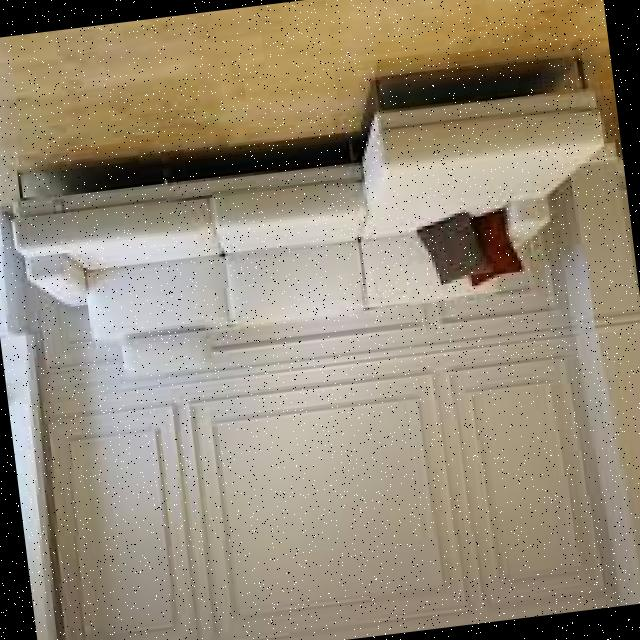Sofa: (0, 15, 640, 398)
